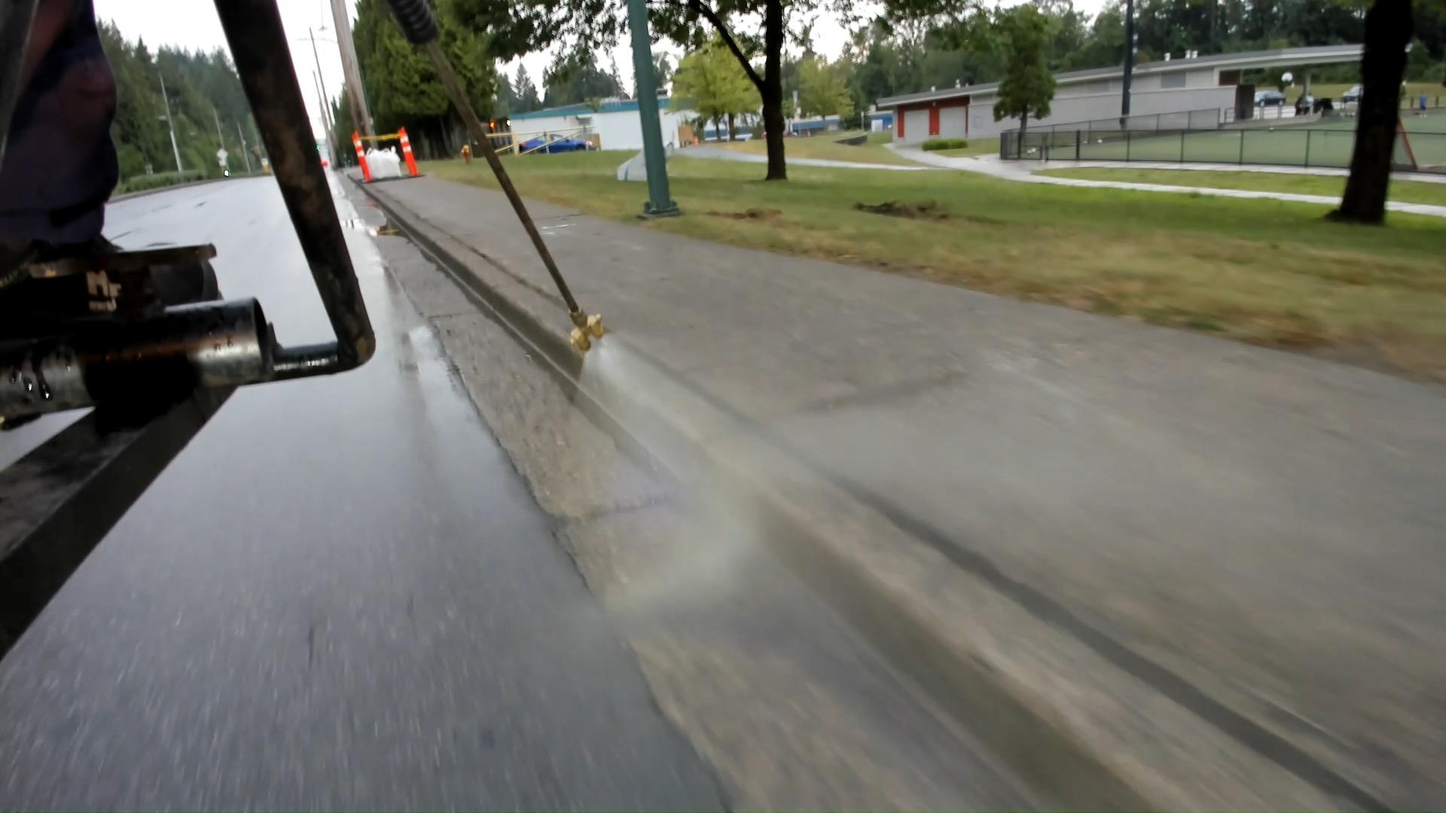weeds: (531, 285, 545, 295)
